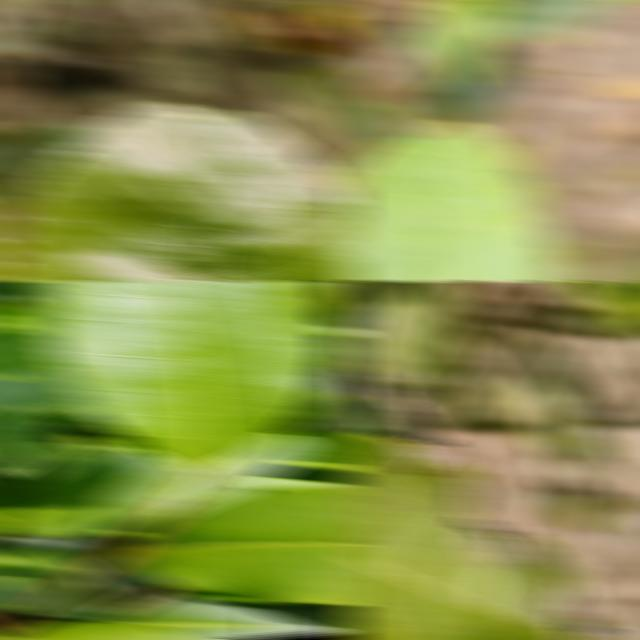Leaf: (0, 102, 362, 282), (35, 280, 338, 471), (342, 428, 601, 640), (342, 121, 562, 282), (123, 483, 362, 604), (513, 337, 611, 531), (0, 448, 198, 536), (353, 280, 469, 401), (111, 593, 362, 640), (177, 434, 311, 507), (342, 354, 448, 444), (0, 365, 84, 473), (0, 124, 93, 203), (417, 0, 501, 85), (0, 538, 97, 611), (481, 0, 623, 41), (0, 620, 193, 640), (34, 576, 117, 620), (280, 430, 362, 473), (565, 280, 640, 326)
